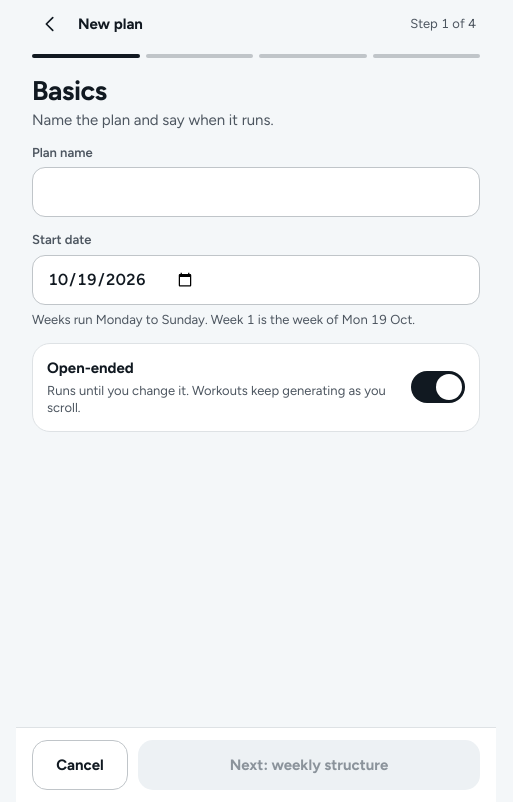
basics step › blocks Next with a clear message when the end date is not after the start date
Expected: the heading "Basics" is shown, [32,74,107,107]
Step 1. Type "Autumn base" into the field labelled "Plan name" → [256, 192], box [32,168,480,218]
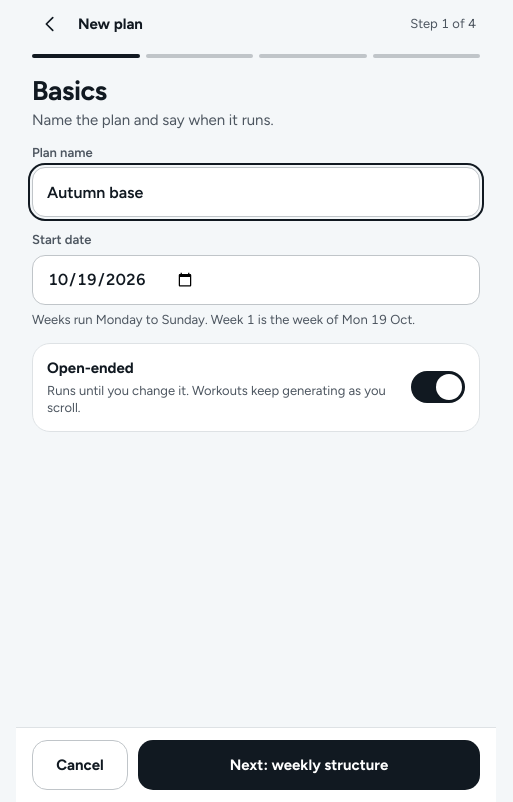
Expected: the button "Next: weekly structure" is enabled, [138,740,480,790]
Step 2. Click the switch named "Open-ended" → [438, 387], box [411,371,465,403]
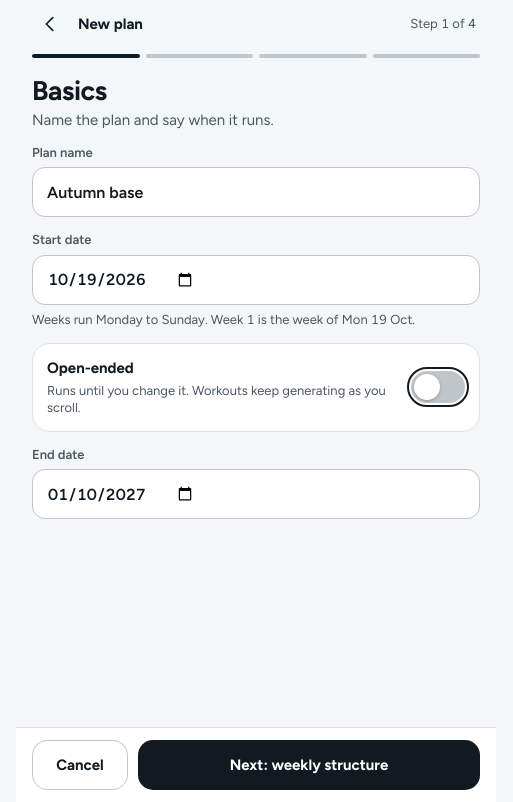
Step 3. Type "2026-10-12" into the date field labelled "End date" → [256, 494], box [32,470,480,520]
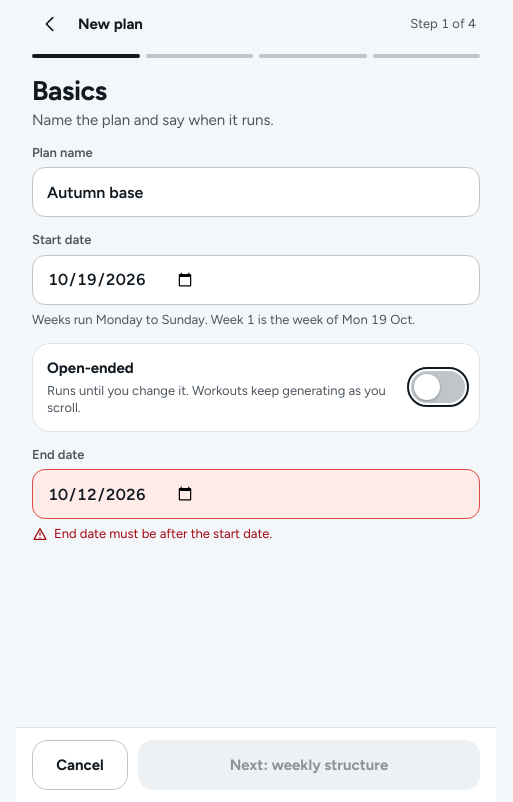
Expected: the text "End date must be after the start date." is shown, [32,526,272,542]
Expected: the button "Next: weekly structure" is disabled, [138,740,480,790]
Step 4. Type "2026-12-20" into the date field labelled "End date" → [256, 494], box [32,470,480,520]
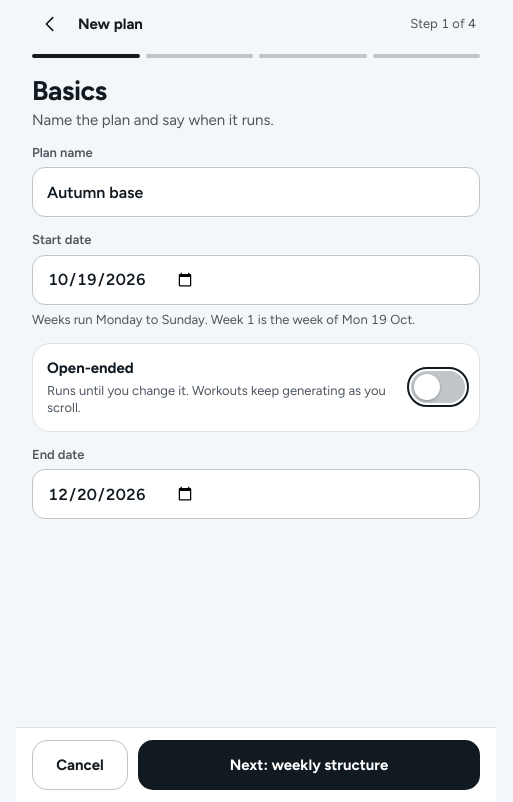
Expected: the button "Next: weekly structure" is enabled, [138,740,480,790]
